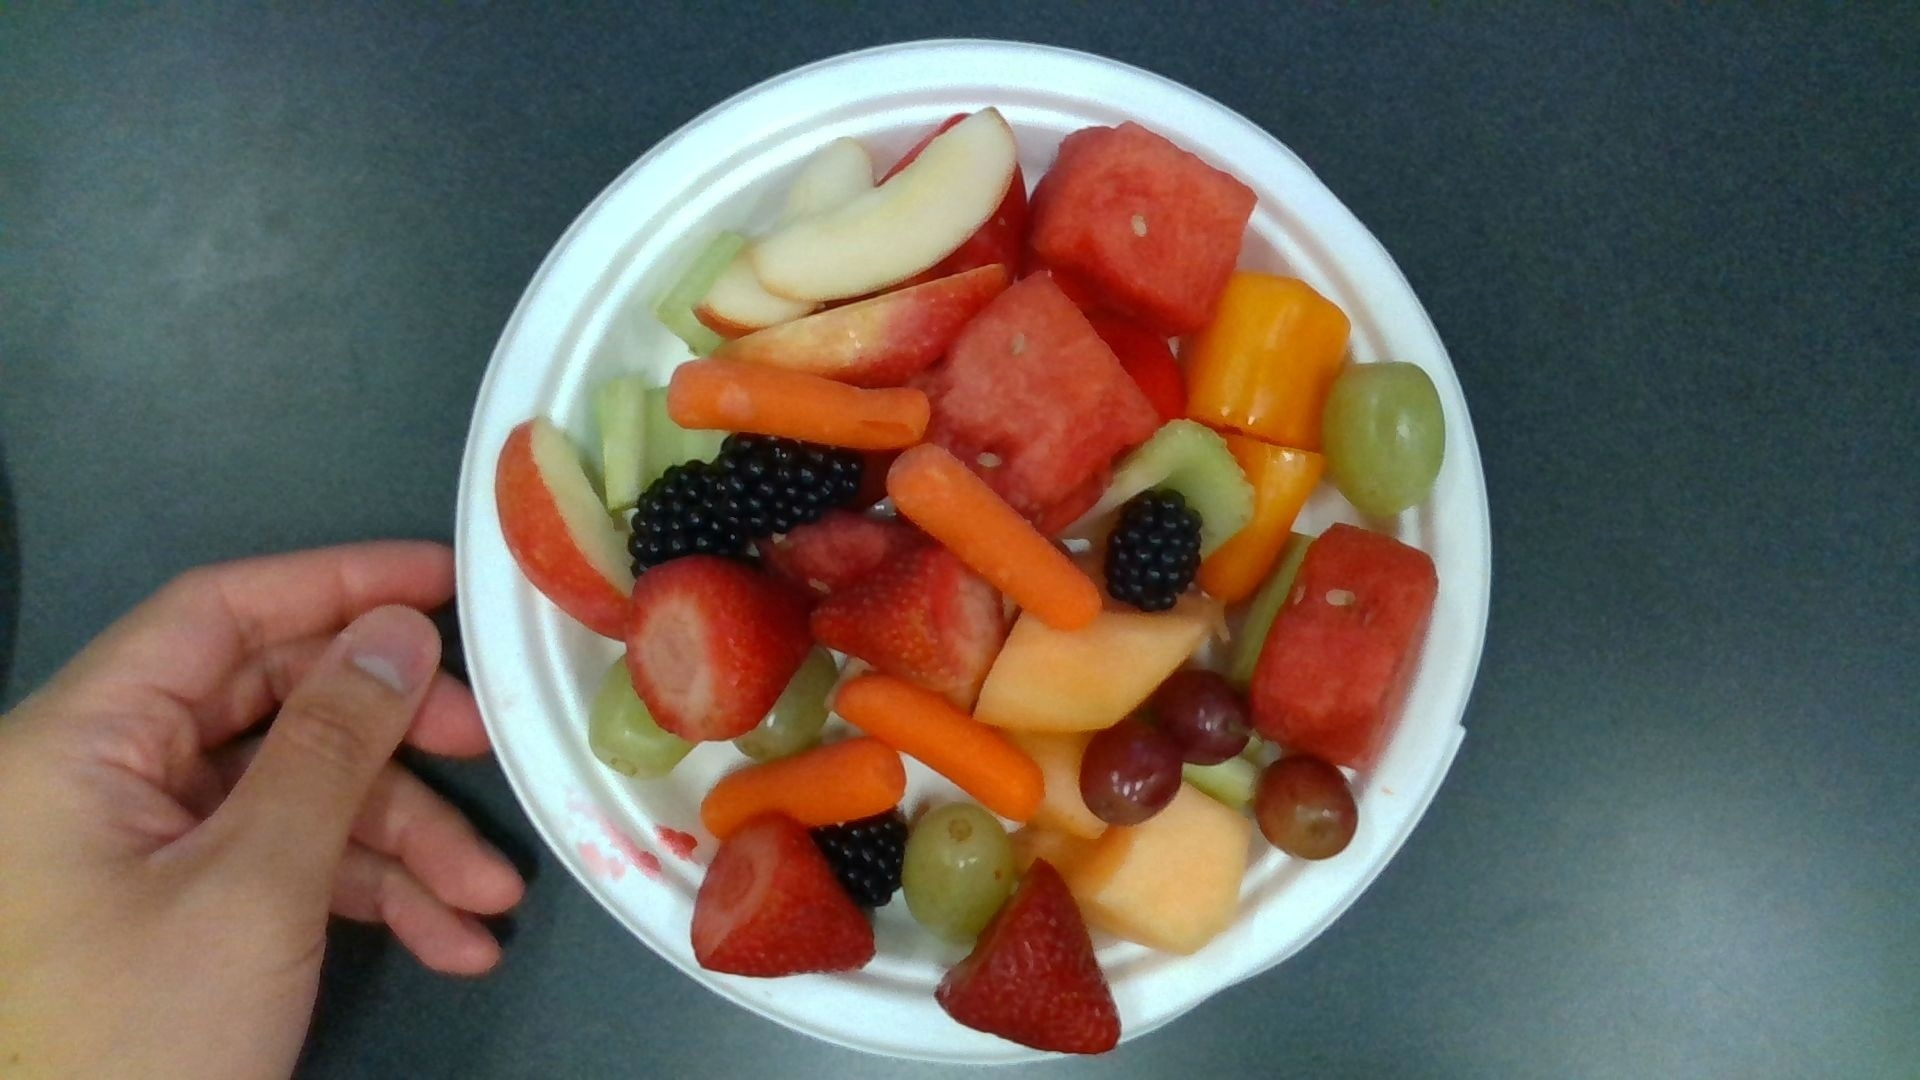apple: (757, 105, 1015, 301), (497, 418, 634, 641)
bell_pepper: (1199, 278, 1349, 443), (1209, 443, 1324, 595)
blackberry: (723, 444, 857, 545), (634, 468, 760, 570), (1117, 491, 1207, 620), (818, 810, 907, 910)
cantalope: (975, 593, 1217, 727), (1073, 783, 1254, 957)
carrot: (890, 443, 1100, 636), (837, 673, 1044, 825), (670, 355, 930, 454), (700, 738, 905, 845)
grape_green: (1325, 361, 1444, 516), (589, 651, 704, 775), (905, 814, 1014, 940)
grape_purple: (1080, 725, 1182, 825), (1265, 761, 1356, 858), (1160, 675, 1251, 765)
melon: (928, 273, 1162, 531), (1030, 125, 1255, 330), (1254, 525, 1435, 765), (723, 268, 1014, 392)
strawberry: (935, 862, 1120, 1054), (629, 560, 814, 740), (812, 550, 1007, 696), (692, 815, 865, 976)
